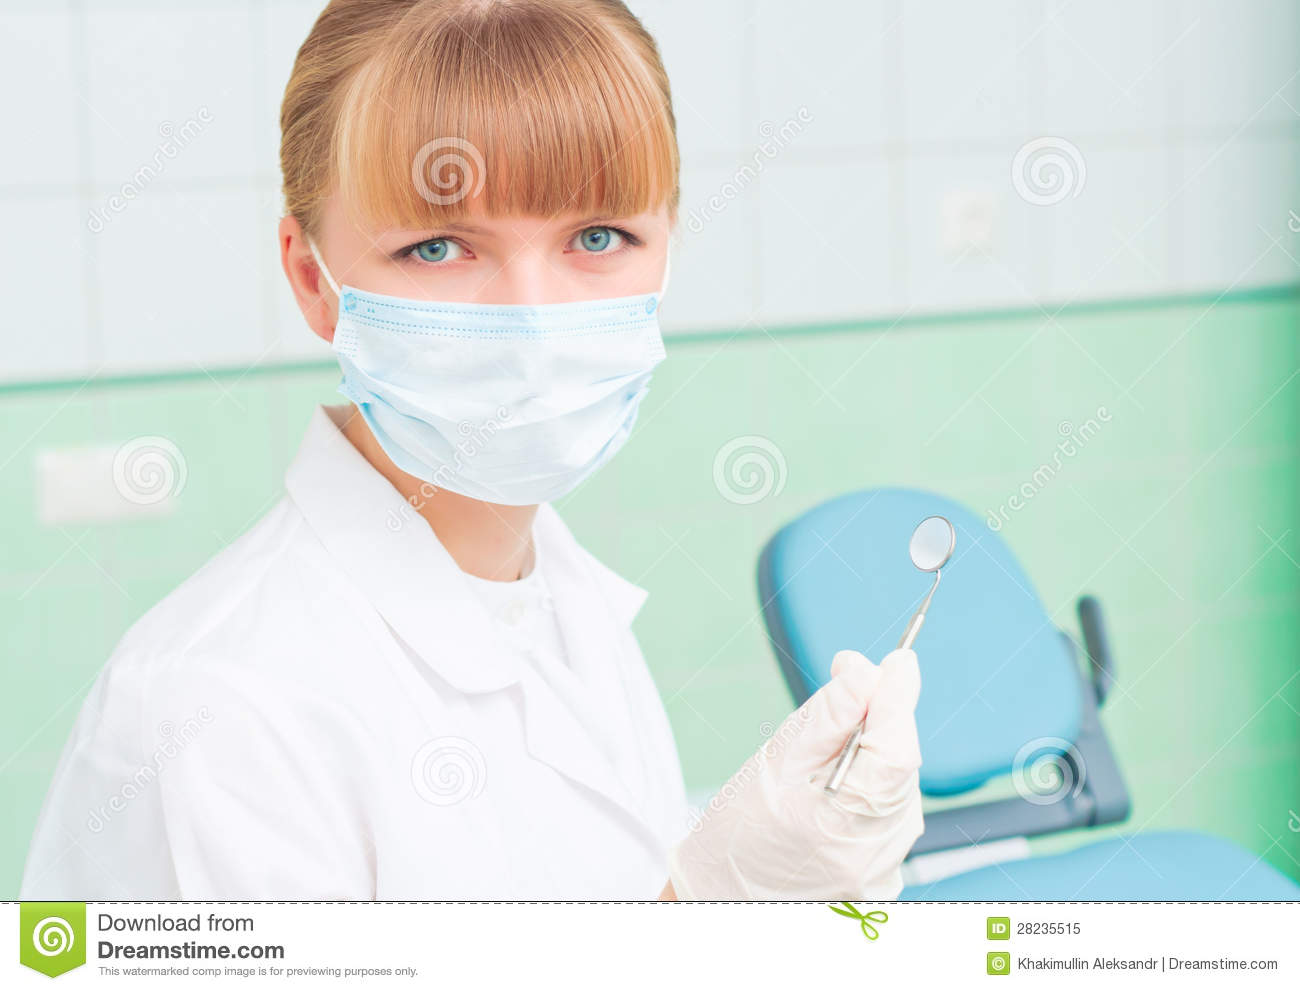mask: (317, 277, 687, 512)
